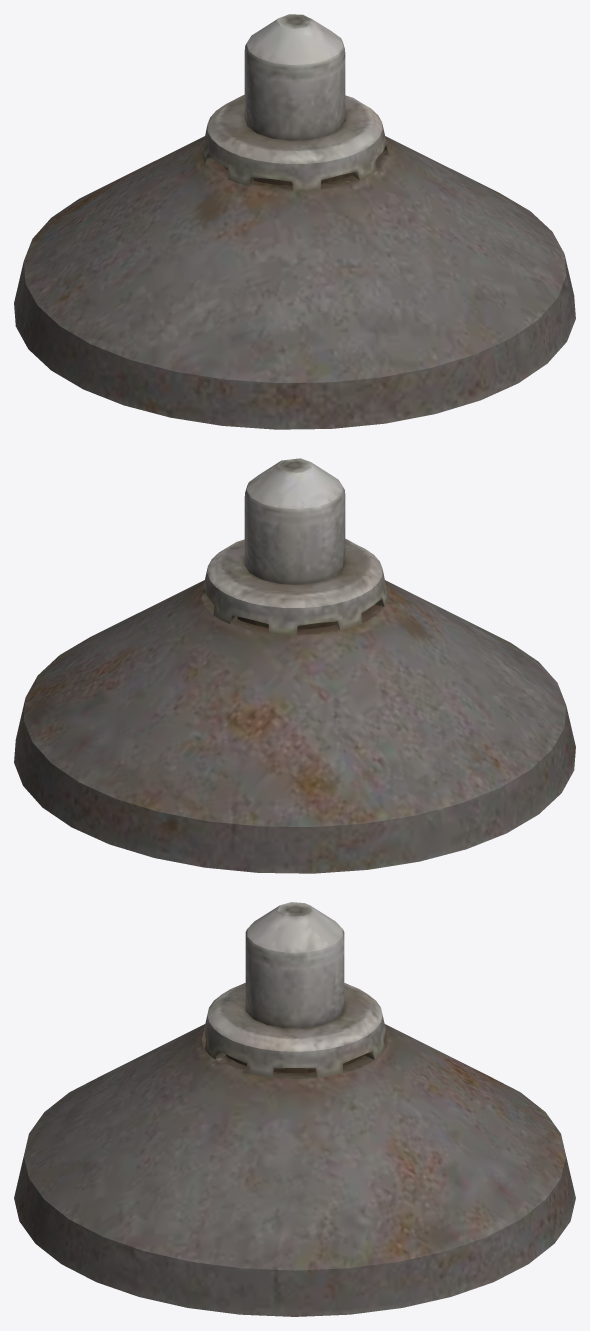
File: plight.industrial.ceiling.lamp.compact.on.glb
3 renders of one model, top to bottom at view 1: azimuth 30°, elevation 25°; view 2: azimuth 150°, elevation 25°; view 3: azimuth 270°, elevation 25°, orthographic.
Parts seen in each view (by area): view 1: mesh (plight ceiling compact); view 2: mesh (plight ceiling compact); view 3: mesh (plight ceiling compact).
Boxes of the visible parts, x1,y1,x2,y2 form: mesh (plight ceiling compact): (14,14,575,429); mesh (plight ceiling compact): (14,458,575,873); mesh (plight ceiling compact): (14,902,575,1316).
Size of the model in its own units: 0.6027 by 0.3633 by 0.6027.
Materials: 2 (2 with a texture image).
